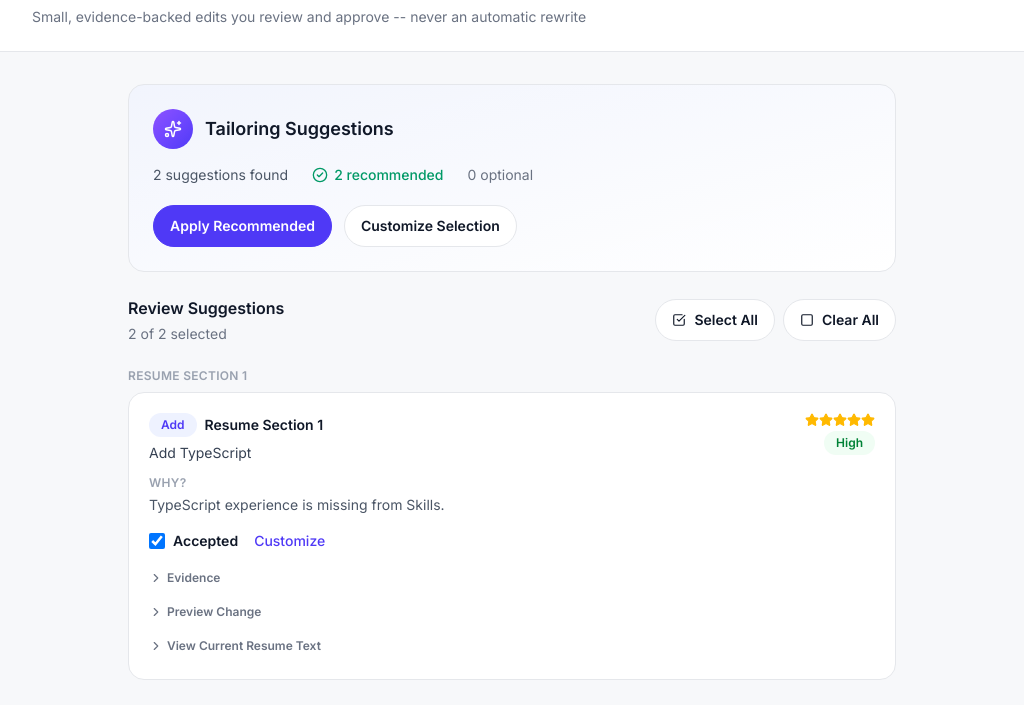
Test case: TailoredResumePage: reviewing and selecting suggestions › lets a user customize a suggestion, marks it as edited, and Reset restores the original
The width and height of the screenshot is (1024, 705).
Click the button "Customize".
click(290, 541)  # box [254,531,325,551]
(page scrolled)
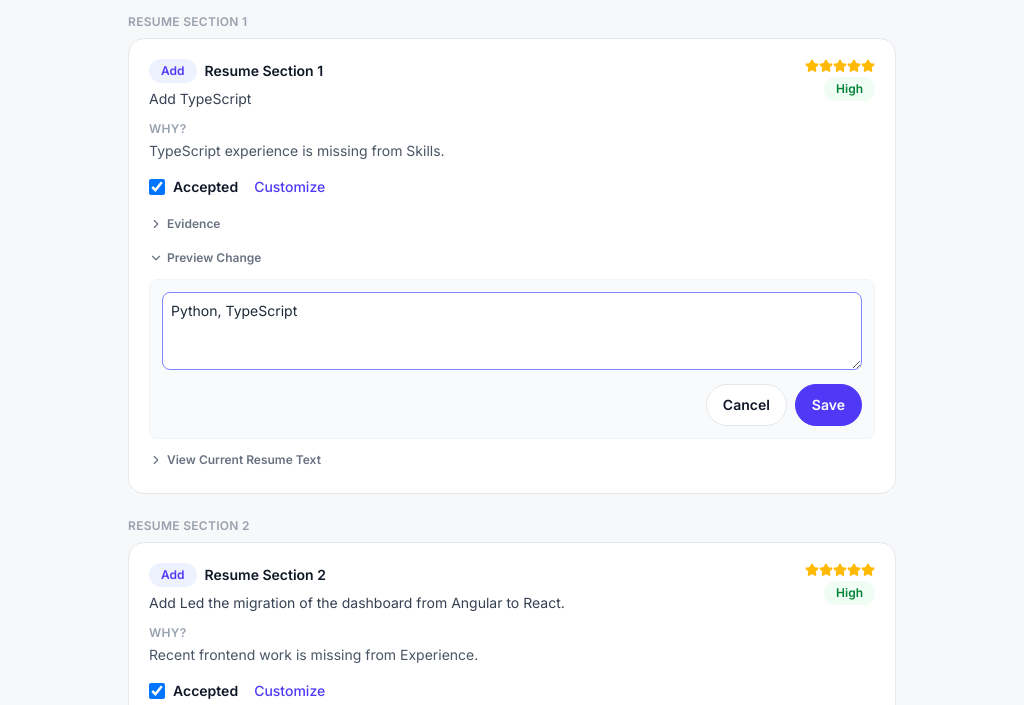
Replace the text in the text box showing "Python, TypeScript" with "Python, TypeScript, and GraphQL" at (512, 331), box [162,292,862,370]
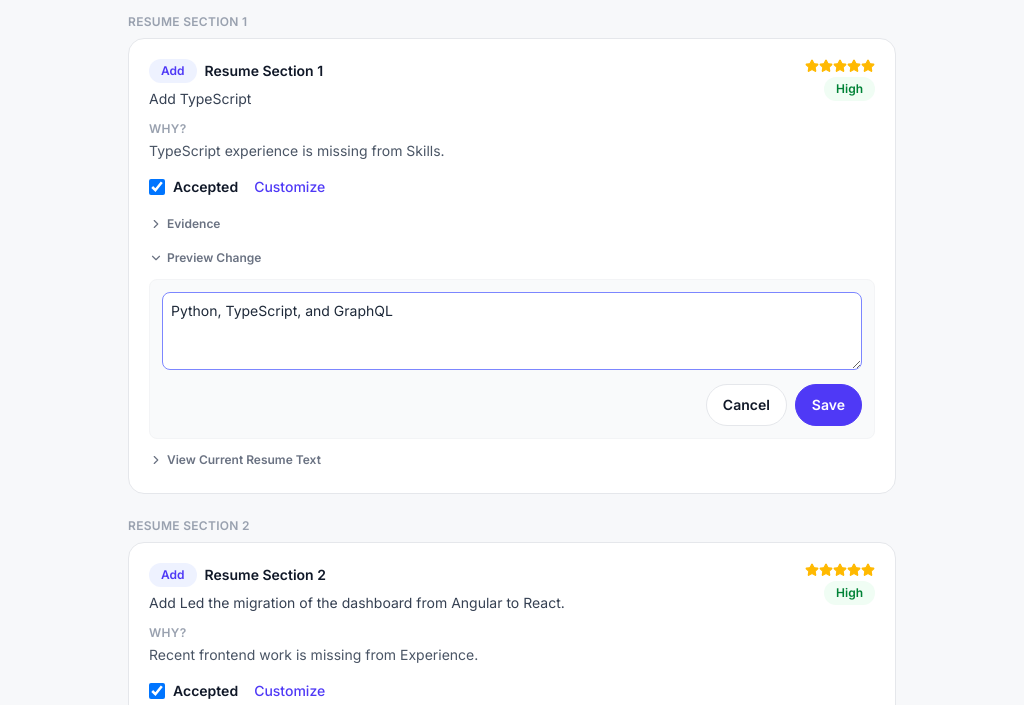
Click the button "Save".
click(828, 405)  # box [795,384,862,426]
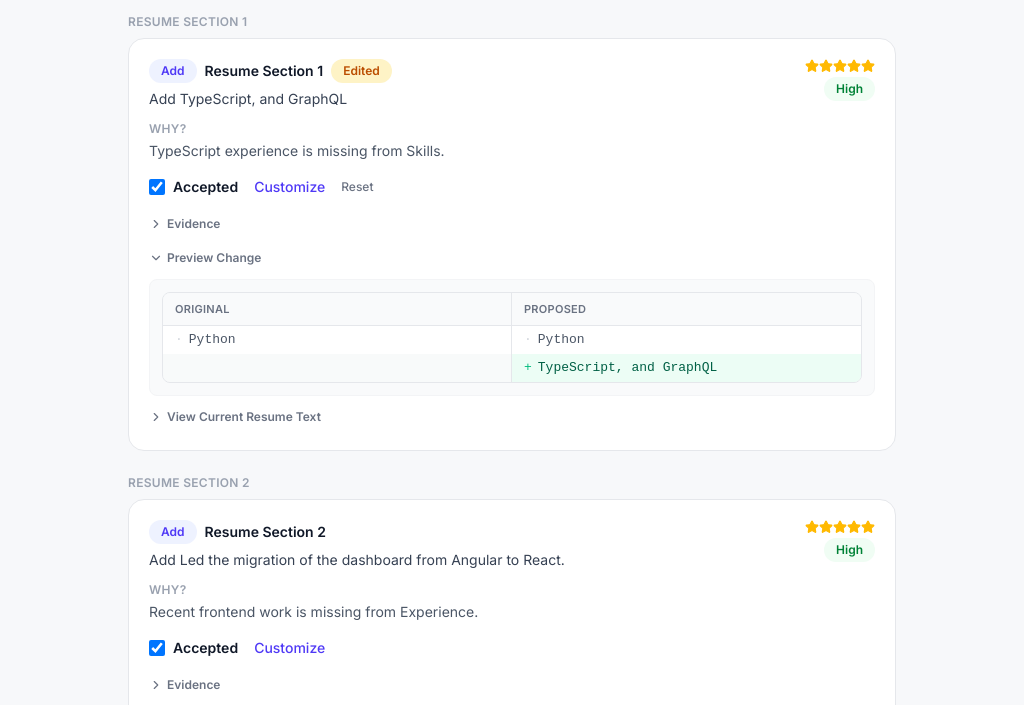
Expected: the text "Add TypeScript, and GraphQL" is shown, [149,90,347,107]
Expected: the text "Edited" is shown, [331,59,392,83]
Click the button "Reset".
click(357, 187)  # box [341,179,374,195]
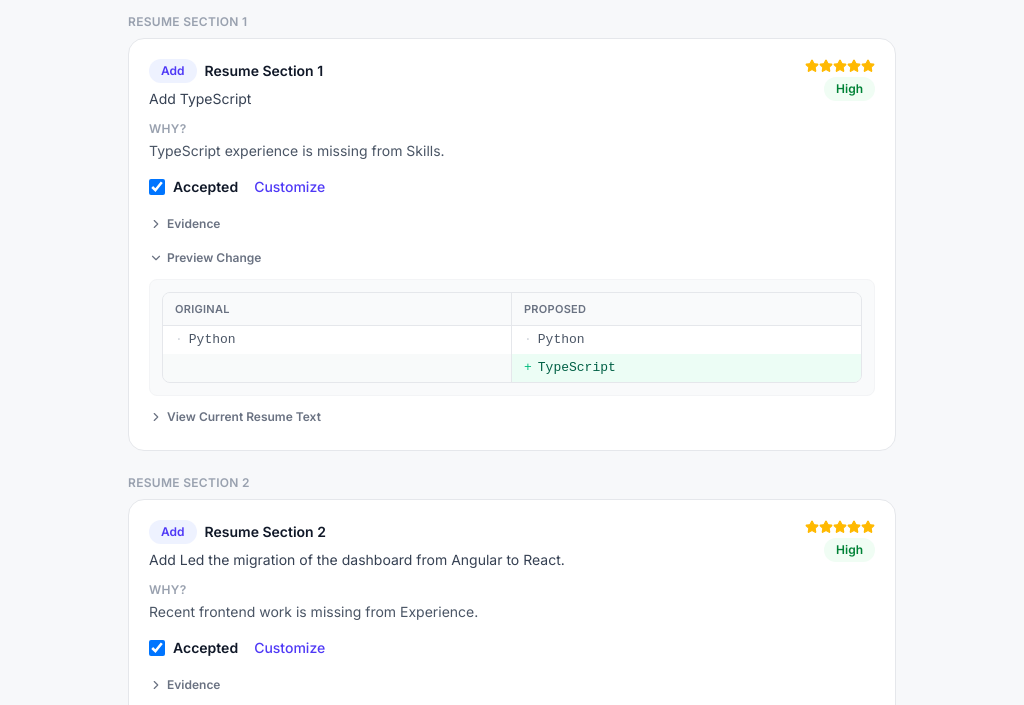
Expected: the text "Add TypeScript" is shown, [149,90,251,107]
Expected: the text "Edited" is gone
